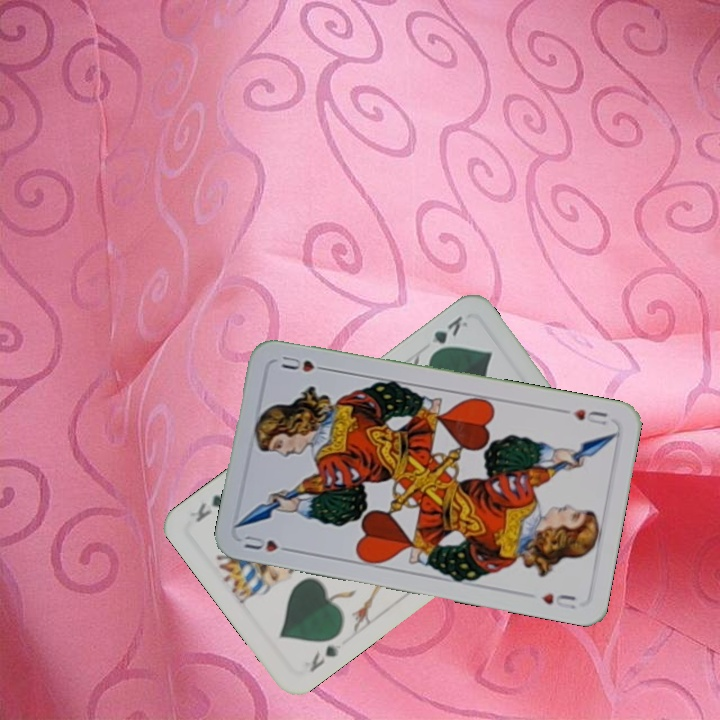GK: (425, 311, 471, 359), (305, 641, 341, 675)
HU: (240, 531, 297, 555), (557, 405, 611, 428)
